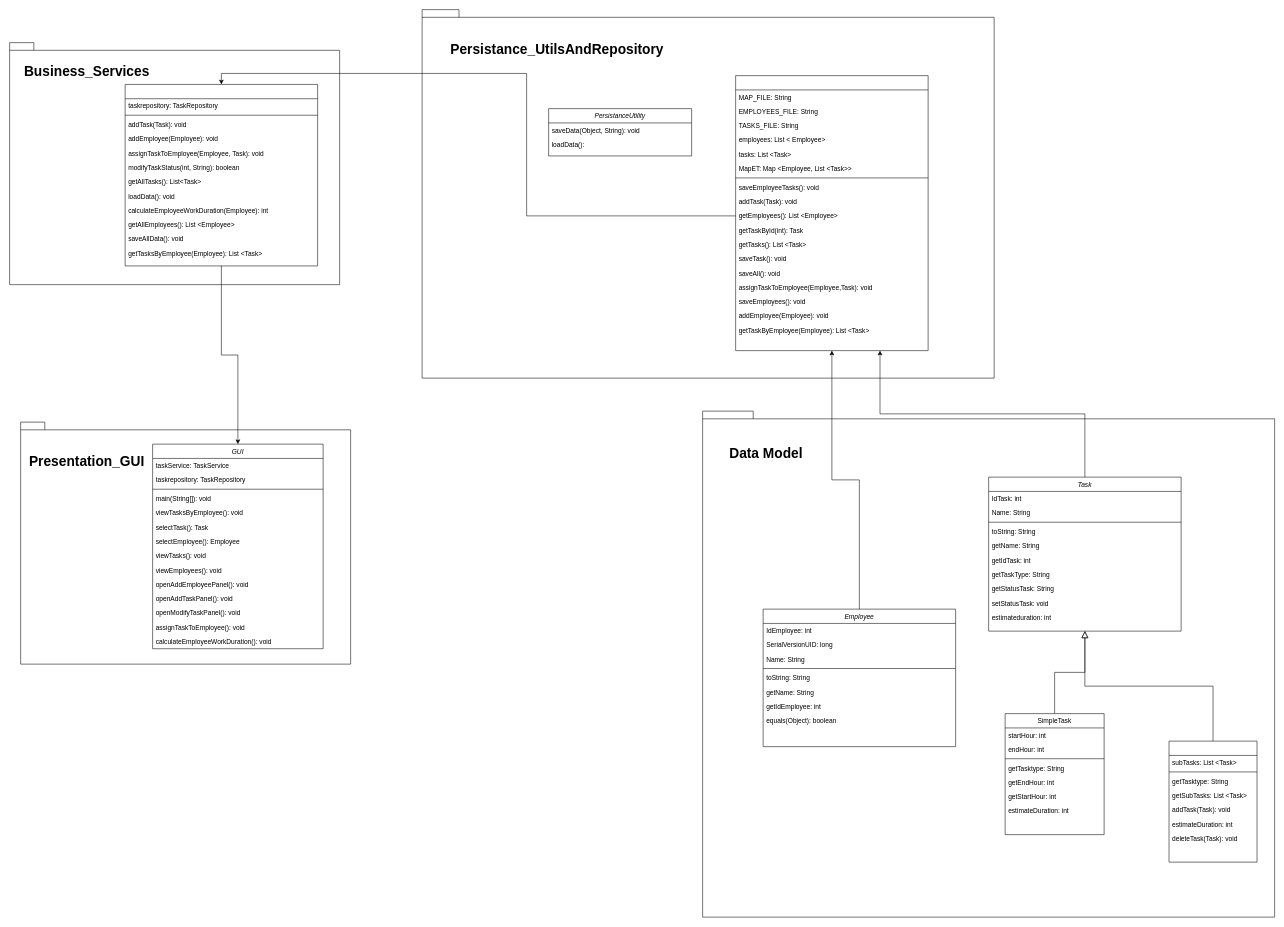
Some shapes in this 1284 by 927 pixel diagram are drawn without their labels. Here are the shapes that lost their labels. From the top down, the box of each, then its label:
(125, 84, 318, 266): TaskService
(735, 75, 928, 351): TaskRepository
(1168, 741, 1257, 862): ComplexTask
